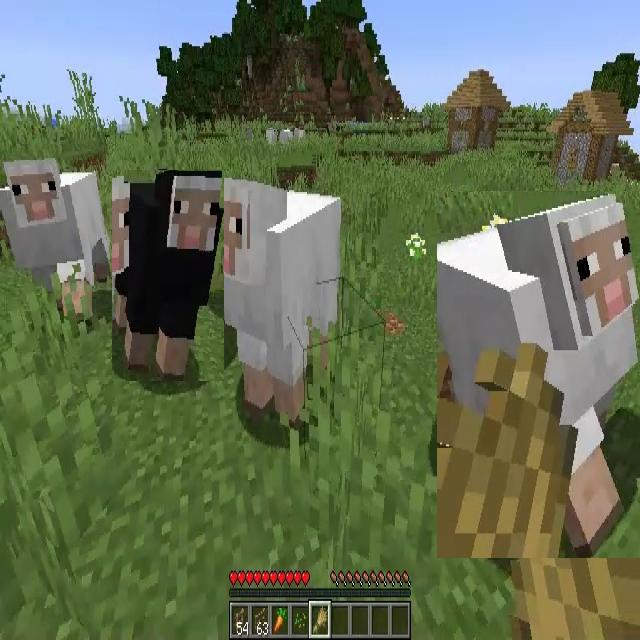sheep: (437, 191, 640, 558), (206, 178, 342, 428), (112, 170, 224, 381), (0, 159, 114, 306), (266, 129, 279, 147), (280, 130, 292, 144), (294, 130, 304, 144)
